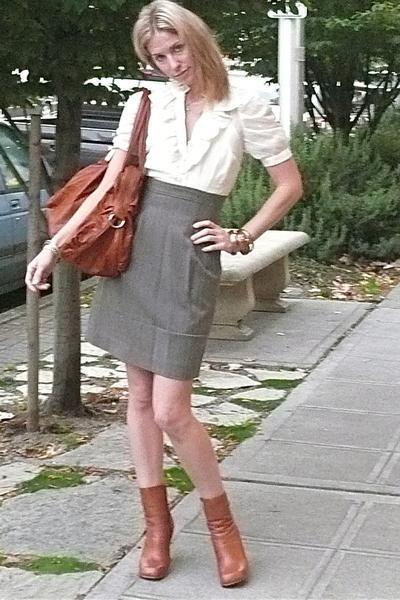bag: (48, 108, 155, 285)
shirt: (116, 71, 292, 195)
shoe: (136, 481, 252, 587)
skirt: (84, 180, 227, 382)
